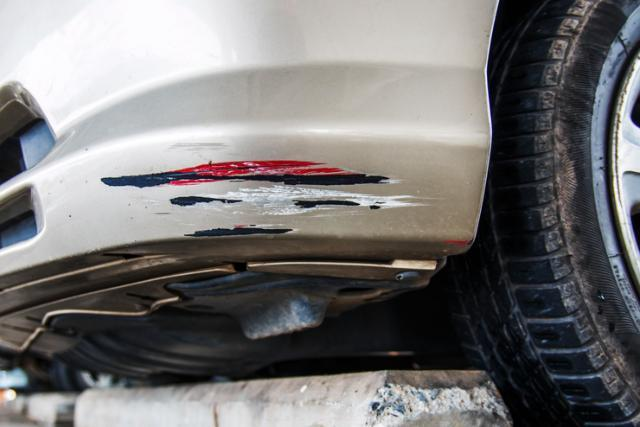Bumper: (90, 124, 446, 271)
